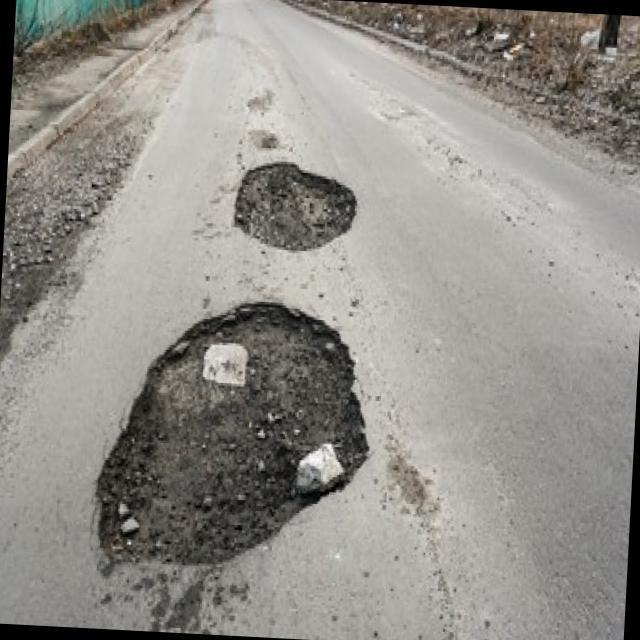Pothole: (94, 302, 370, 577), (234, 163, 358, 254)
